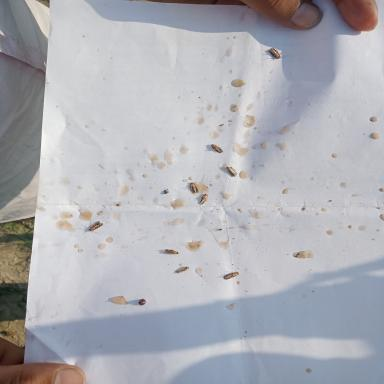pbw: (261, 48, 290, 62), (84, 221, 103, 234), (207, 144, 224, 154), (226, 165, 238, 177), (224, 271, 238, 279), (176, 266, 190, 274), (199, 193, 208, 205), (159, 249, 180, 254), (190, 182, 199, 193)
